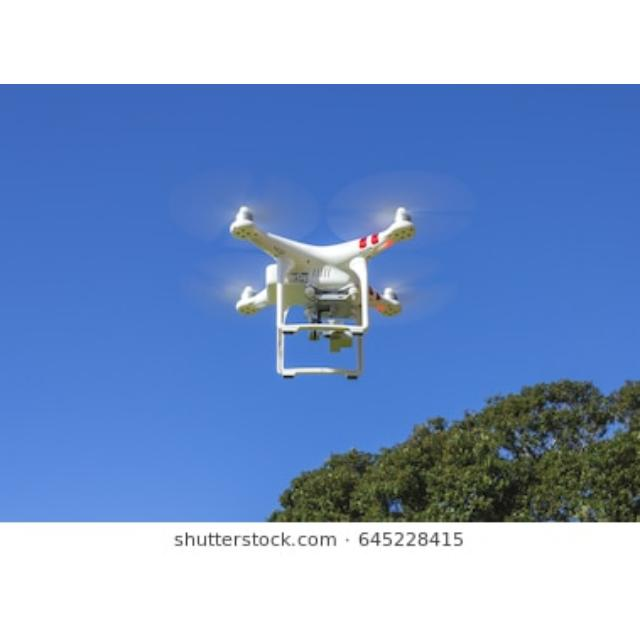Drones: (225, 211, 412, 321)
